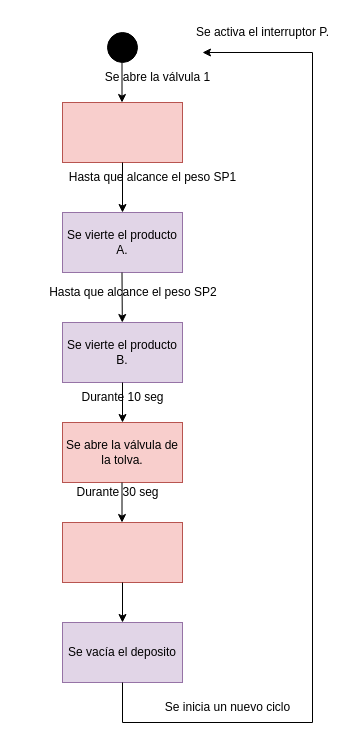
Image size: 359x748. Some labels were removed from this diagram. Each missing label, with the centre of its shape:
"Se acciona el agitador" belongs at (x=122, y=552).
"Se llena el deposito de agua." belongs at (x=122, y=132).
